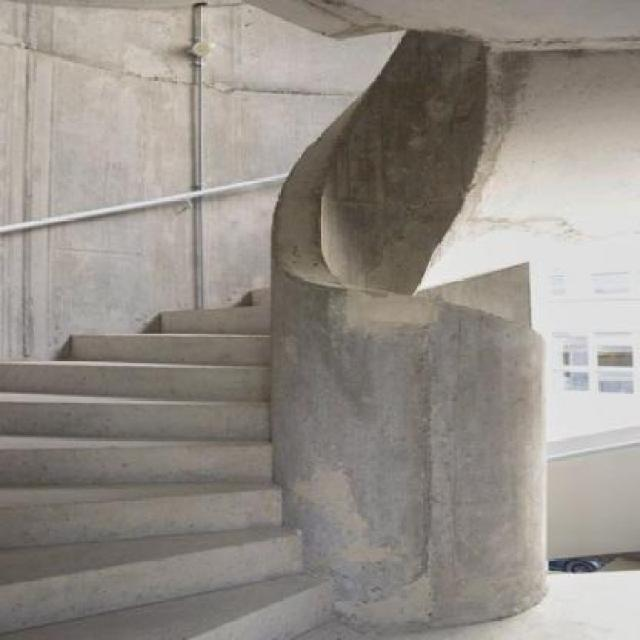stair: (1, 183, 454, 640)
